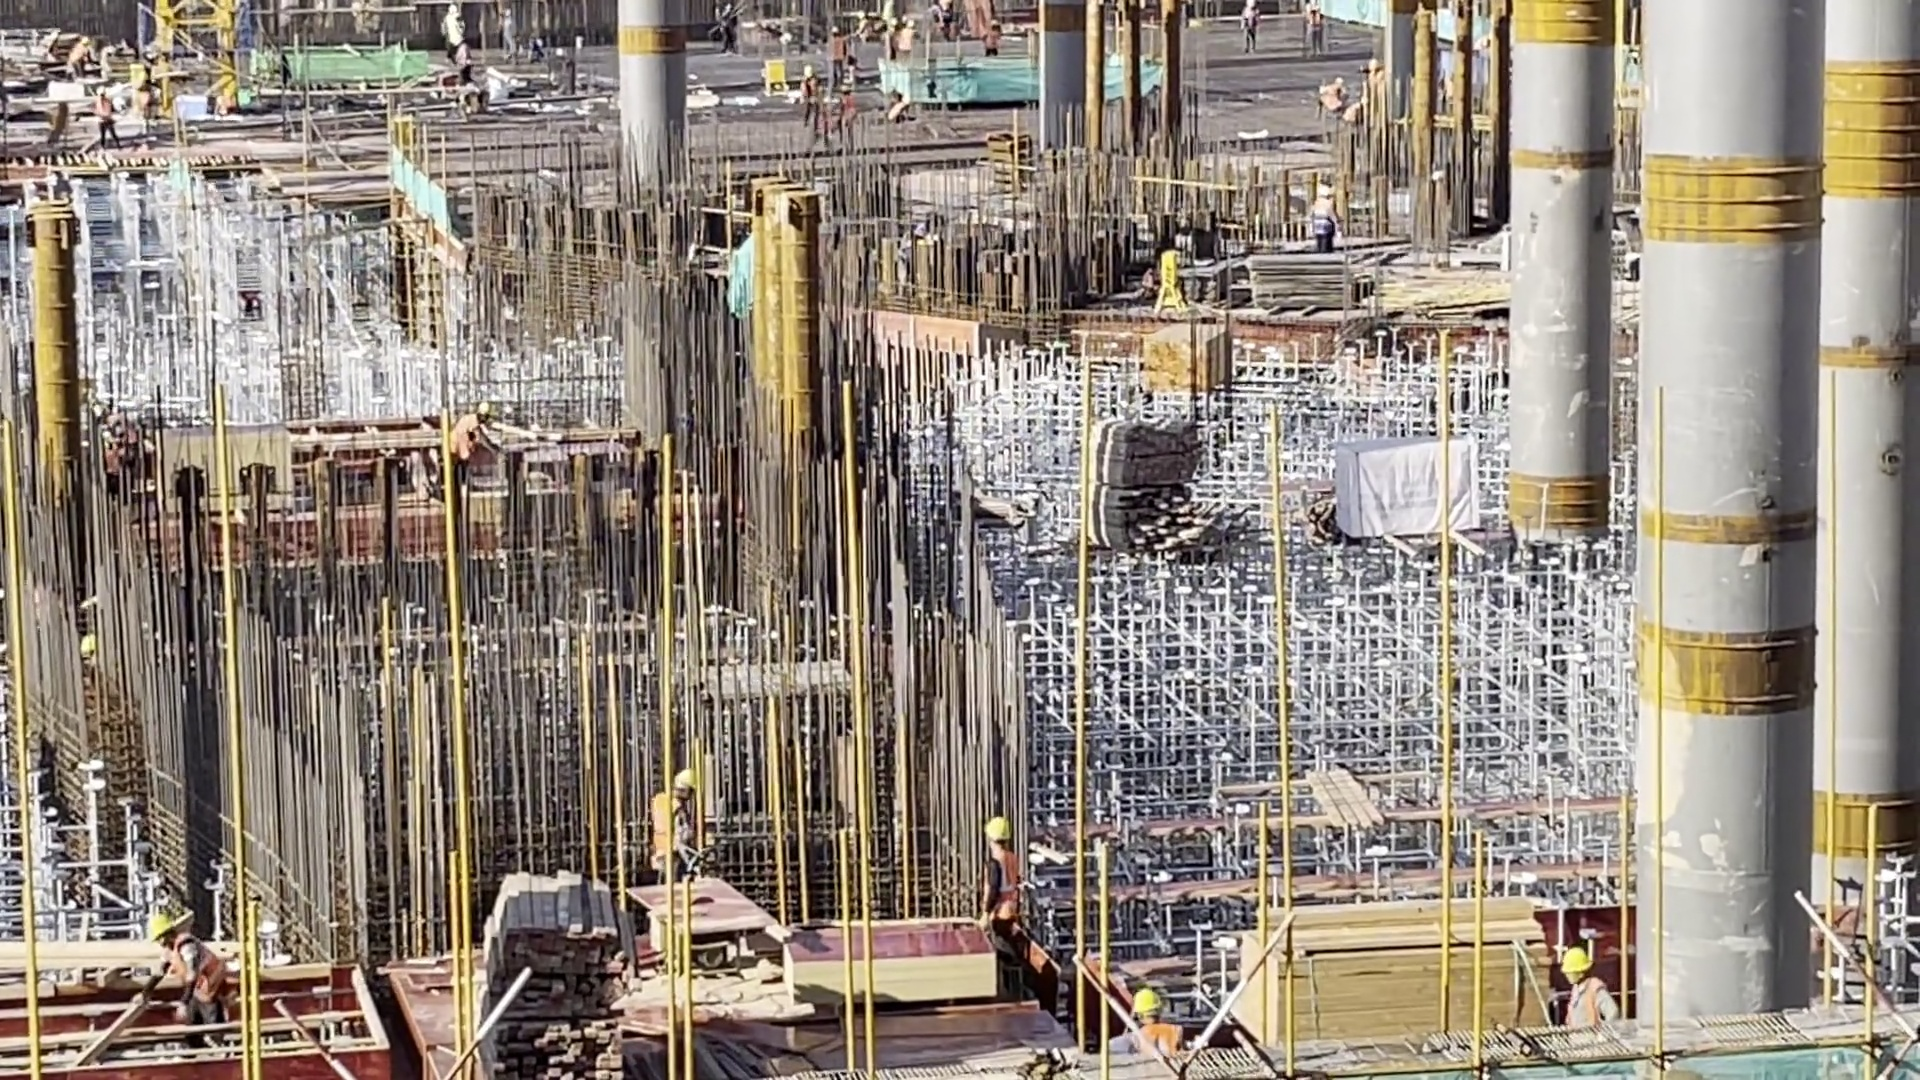board: (775, 913, 997, 1009)
ebox: (1145, 249, 1187, 322), (759, 56, 785, 99)
helmet: (1560, 949, 1594, 974), (144, 913, 171, 941), (1131, 991, 1163, 1015), (982, 816, 1011, 841), (674, 769, 694, 791), (804, 66, 814, 79), (840, 86, 852, 93), (989, 19, 998, 28), (830, 26, 840, 33), (906, 20, 914, 28)
person: (135, 910, 230, 1028), (983, 816, 1026, 997), (1556, 947, 1623, 1031), (653, 767, 693, 884), (1125, 990, 1188, 1059), (452, 399, 492, 492), (89, 83, 125, 152), (1308, 185, 1343, 255), (832, 84, 859, 149), (799, 64, 822, 135), (1311, 75, 1349, 114), (69, 37, 99, 84), (1305, 5, 1330, 58), (452, 37, 477, 84), (439, 4, 459, 63), (1241, 2, 1263, 54), (828, 26, 848, 83), (980, 18, 1005, 58), (899, 19, 920, 58), (886, 96, 912, 123)
vest: (164, 934, 229, 1002), (987, 851, 1019, 923), (1562, 983, 1608, 1029), (1129, 1023, 1186, 1057), (650, 794, 680, 857), (1313, 202, 1334, 238), (95, 99, 115, 126), (840, 96, 858, 125), (829, 38, 846, 61), (984, 32, 1002, 51), (901, 30, 917, 51)
wood: (1244, 891, 1552, 1042), (478, 872, 625, 1080), (1143, 320, 1191, 390)
